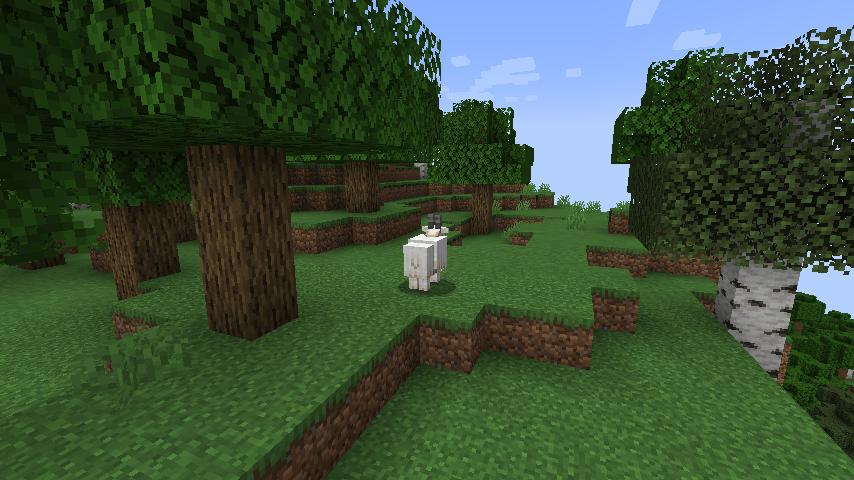goat: (402, 215, 452, 298)
